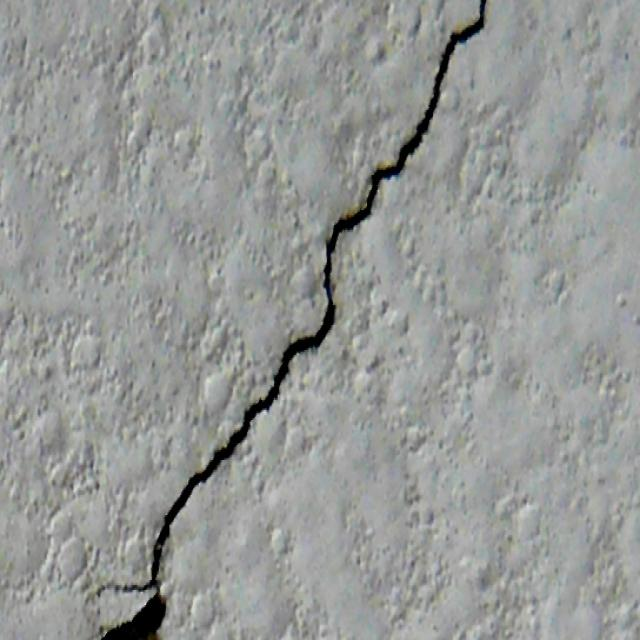crack: (97, 0, 493, 598)
spall: (99, 592, 168, 638)
